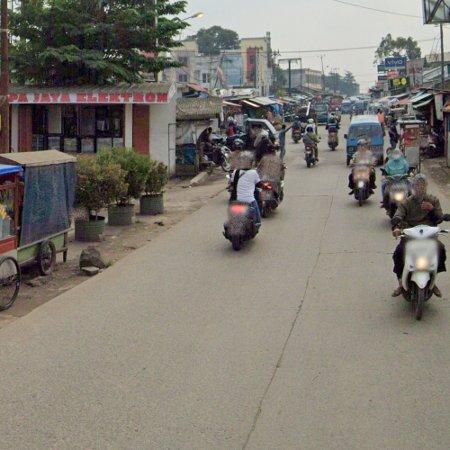motorcycles: (403, 225, 449, 320)
